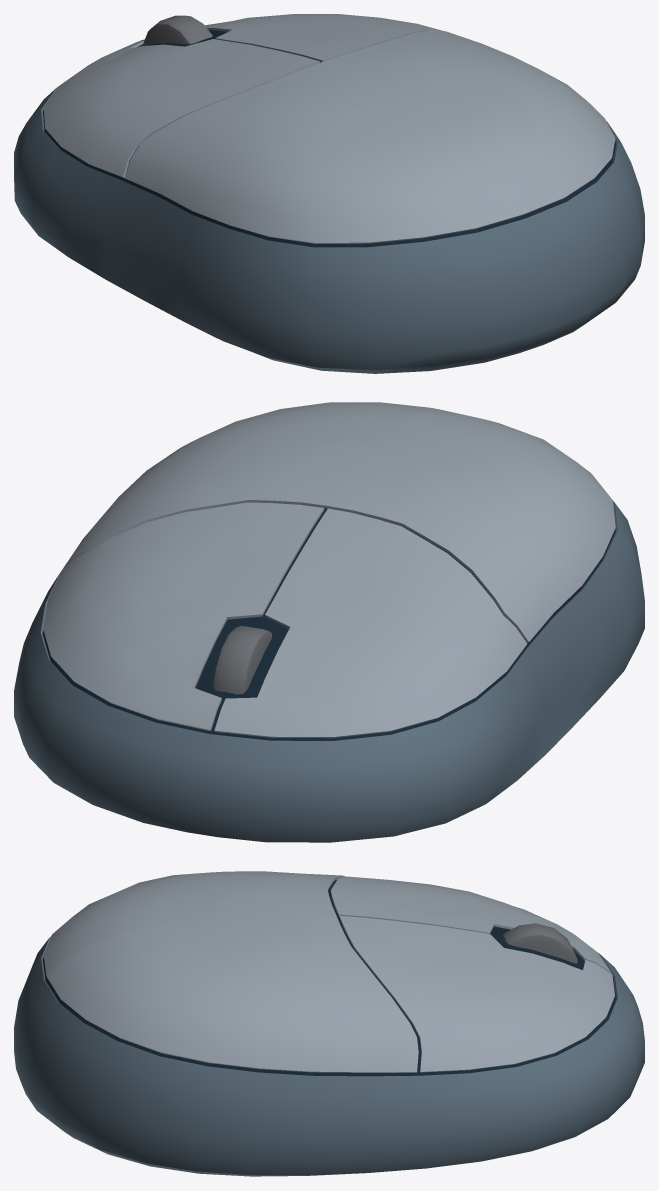
The model's file is Mouse.fbx.
The picture shows the model from 3 angles, top to bottom: view 1: azimuth 30°, elevation 25°; view 2: azimuth 150°, elevation 25°; view 3: azimuth 270°, elevation 25°; orthographic projection. The views are drawn at different scales.
Visible parts, largest first — view 1: Mouse; view 2: Mouse; view 3: Mouse.
Boxes of the visible parts, x1=… form: Mouse: x1=14, y1=14, x2=644, y2=373; Mouse: x1=14, y1=402, x2=644, y2=842; Mouse: x1=14, y1=871, x2=644, y2=1176.
Bounding box in the file's own units: 0.091 × 0.0346 × 0.118.
